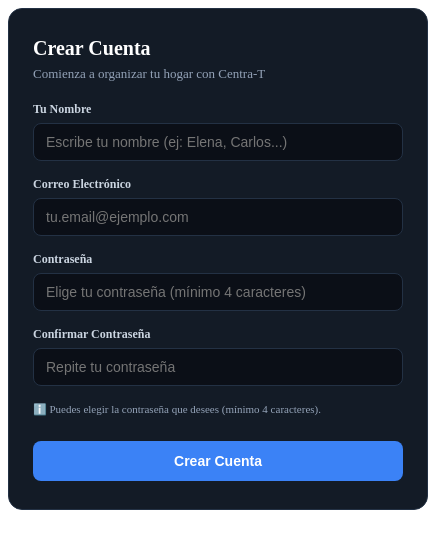
PVF-A02.01 · RegisterTab (Componente de Registro y Caso Forense VV-009) › debe mostrar error inline si la contraseña no cumple los requisitos mínimos de seguridad
The image size is (445, 545).
Type "valid@example.com" into the field labelled "Correo Electrónico" at (218, 217), box [33,198,403,236]
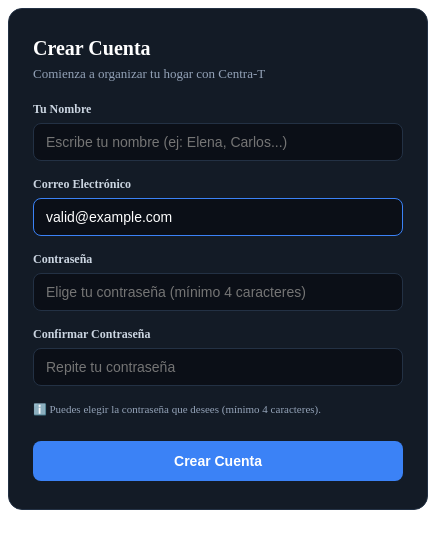
Type "debil" into the password field labelled "Contraseña" at (218, 292), box [33,273,403,311]
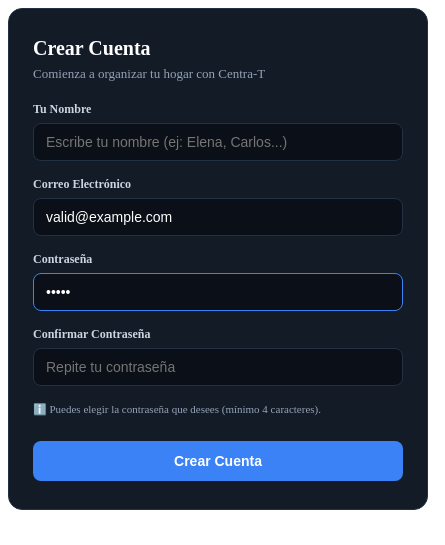
Type "debil" into the password field labelled "Confirmar Contraseña" at (218, 367), box [33,348,403,386]
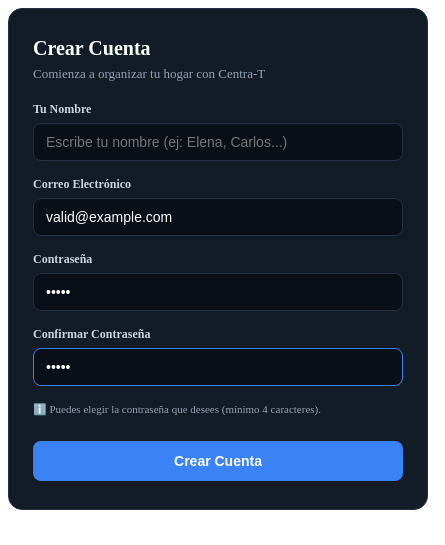
Click the button "Crear Cuenta" at (218, 461), box [33,441,403,481]
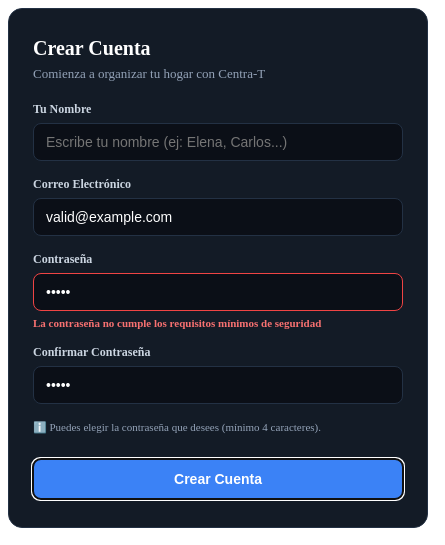
Result: the text "La contraseña no cumple los requisitos mínimos de seguridad" is shown at [33,317,321,329]
